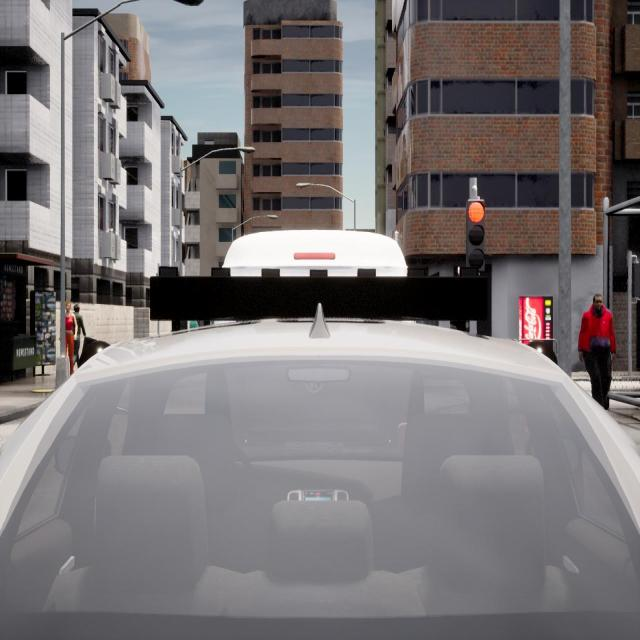Pedestrian: (578, 294, 616, 409), (65, 301, 77, 376), (72, 304, 87, 364)
Vehicle: (0, 319, 640, 637), (223, 231, 404, 280)
traffic_light: (467, 200, 485, 269), (631, 262, 640, 298)
